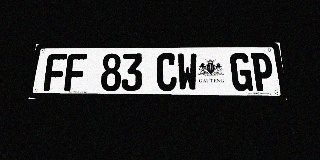3: (121, 53, 142, 91)
8: (100, 53, 122, 91)
C: (156, 53, 177, 91)
F: (43, 54, 67, 91), (64, 54, 87, 91)
G: (230, 53, 253, 91)
P: (250, 53, 275, 91)
W: (177, 53, 198, 91)
